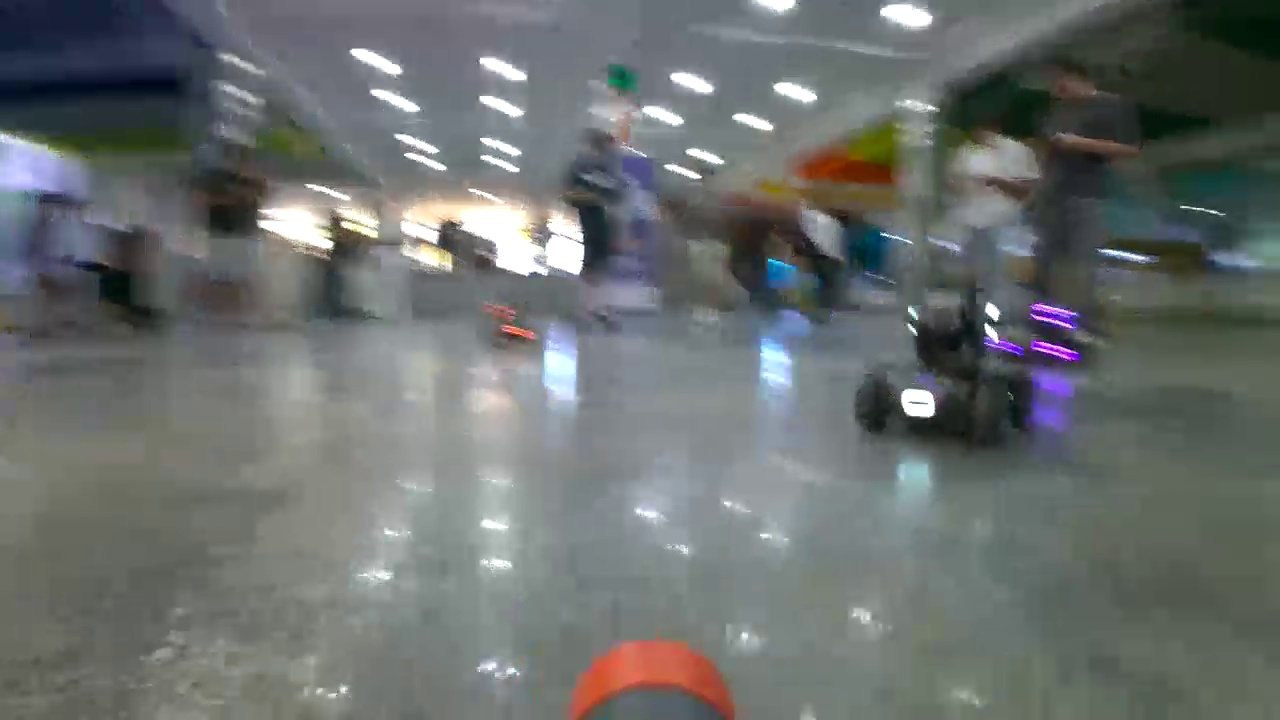robot: (856, 291, 1026, 444), (1030, 301, 1082, 360), (483, 301, 537, 341)
